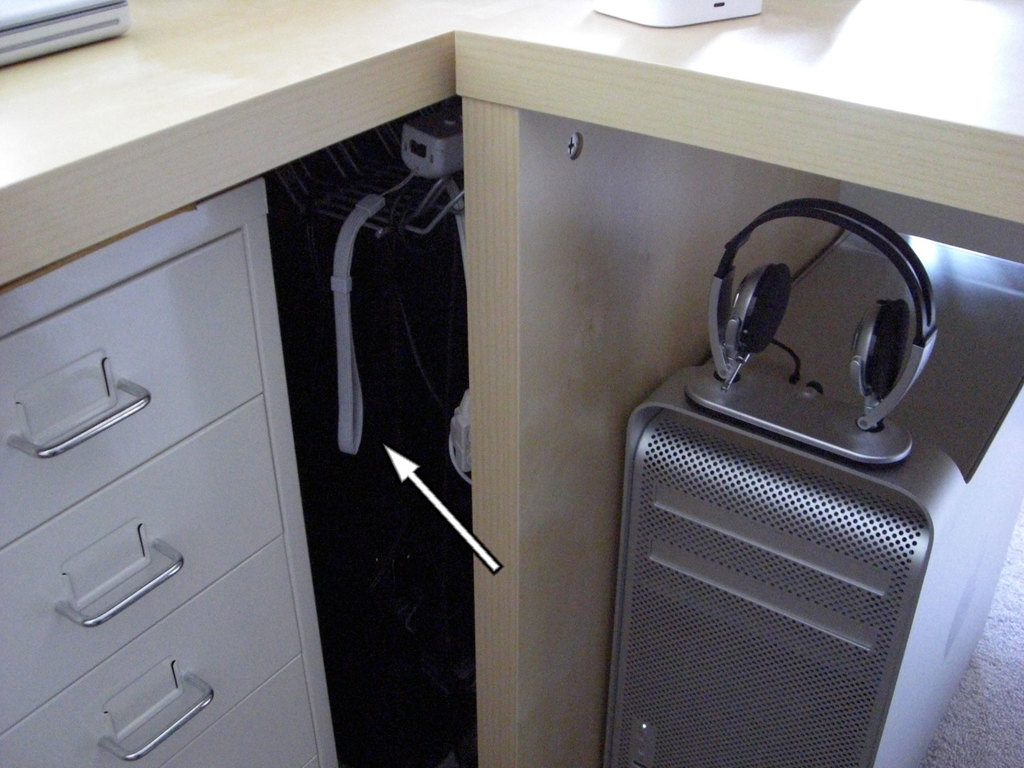cabinet door: (0, 267, 341, 477), (0, 442, 332, 623), (0, 587, 311, 751)
handle: (83, 673, 221, 765), (4, 375, 158, 453), (42, 560, 200, 630)
